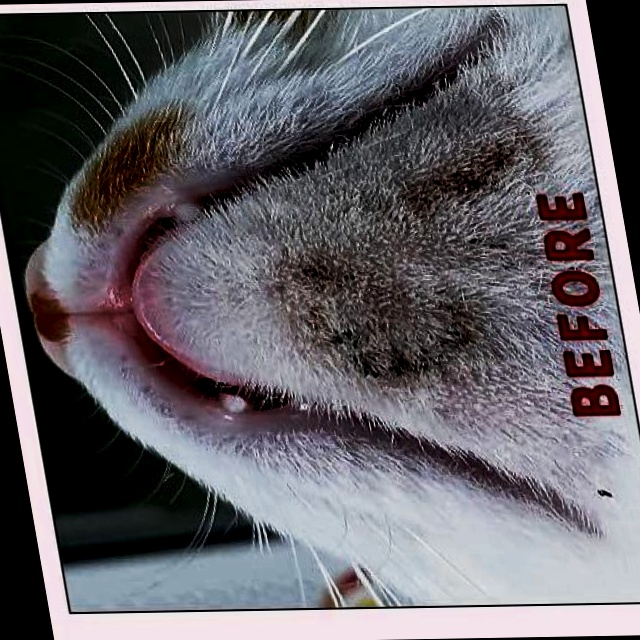acne: (273, 218, 534, 377)
